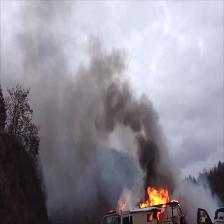fire: (144, 186, 170, 205)
smoke: (77, 70, 135, 115), (133, 110, 163, 175)
